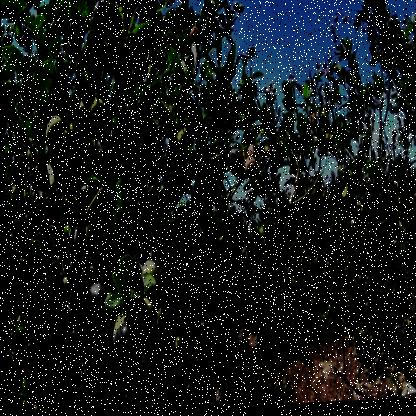intermediate: (244, 147, 258, 183), (190, 28, 201, 48), (29, 405, 38, 416)
mature: (111, 321, 143, 376), (59, 133, 82, 198), (84, 281, 111, 334), (93, 3, 115, 39), (227, 149, 243, 179), (351, 211, 362, 225)
young: (45, 113, 65, 176), (142, 259, 167, 308), (132, 299, 153, 339), (91, 97, 107, 125), (115, 1, 135, 11), (173, 337, 183, 357), (233, 5, 246, 14), (61, 275, 67, 292), (355, 204, 363, 216)
